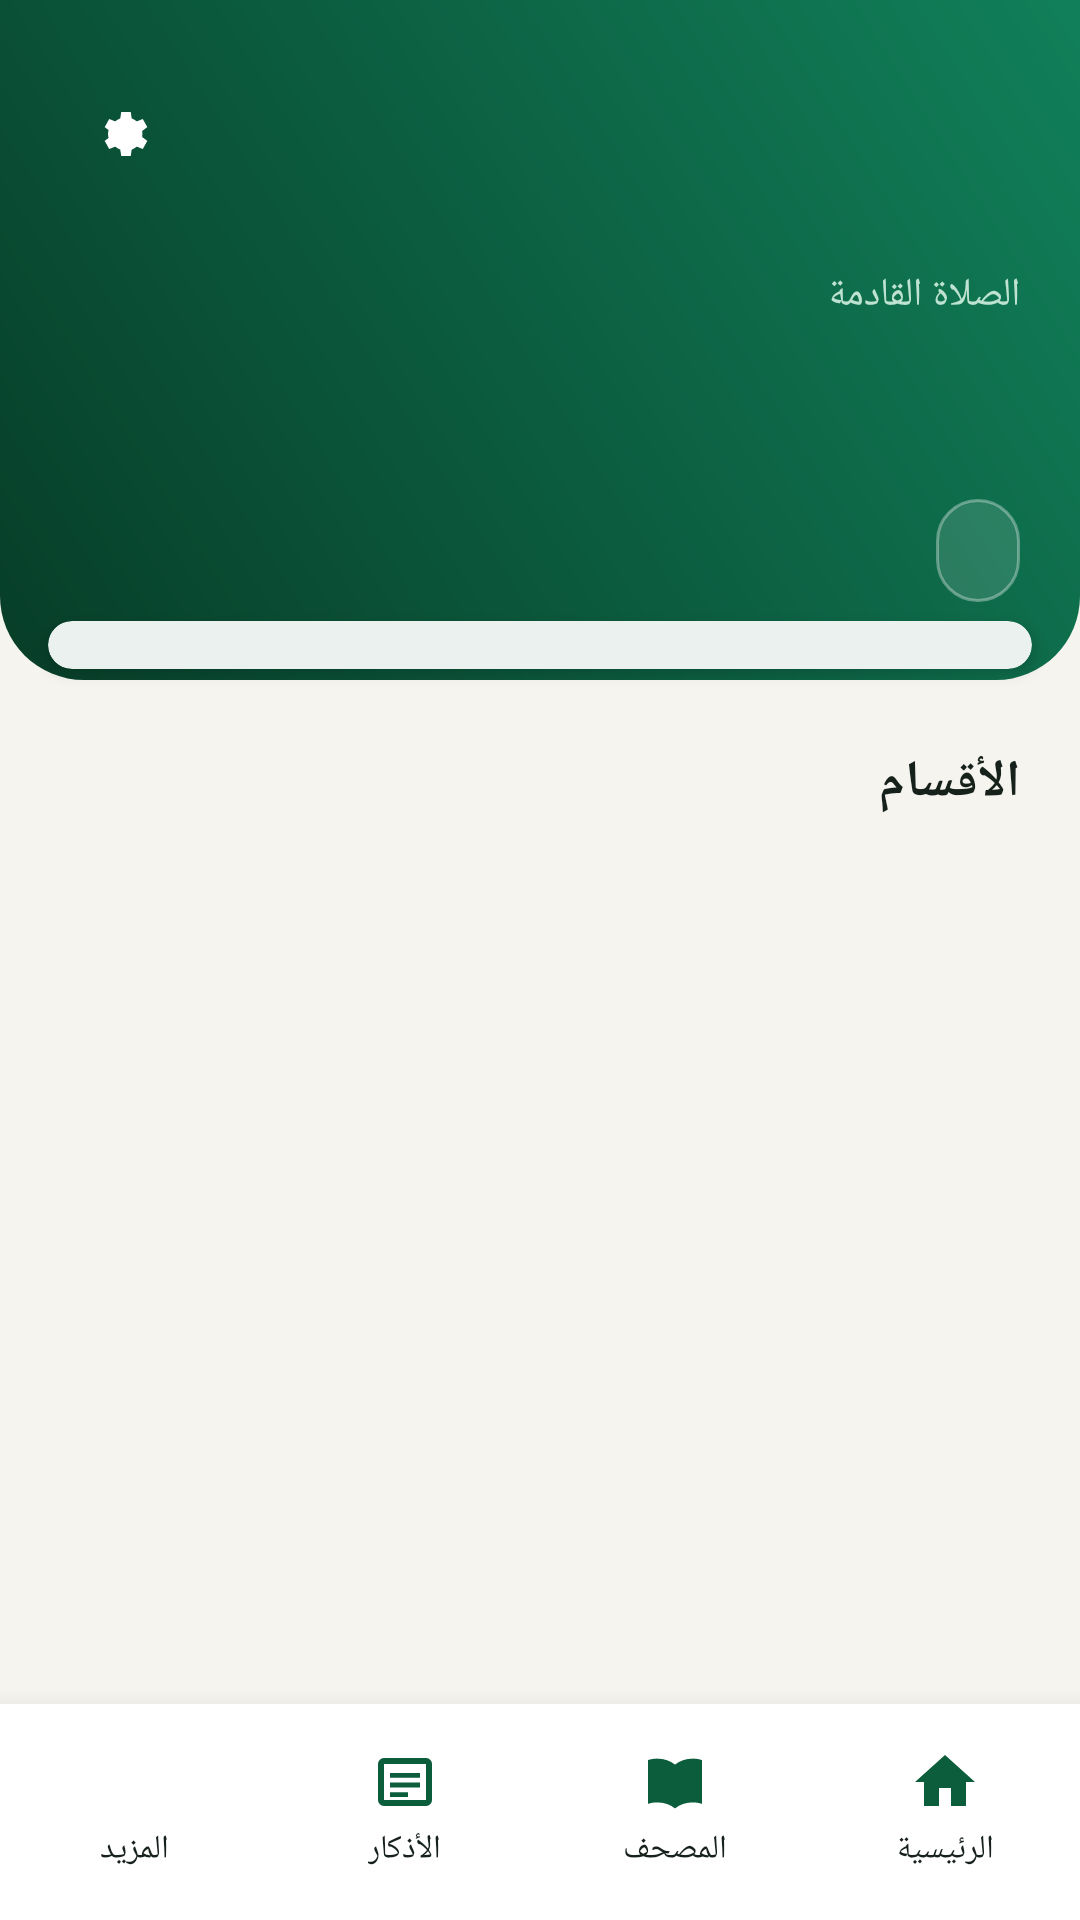

Point at icon controls on the screen. Image size 1080 x 1920, points as point (x, y).
الإعدادات: point (126, 134)
